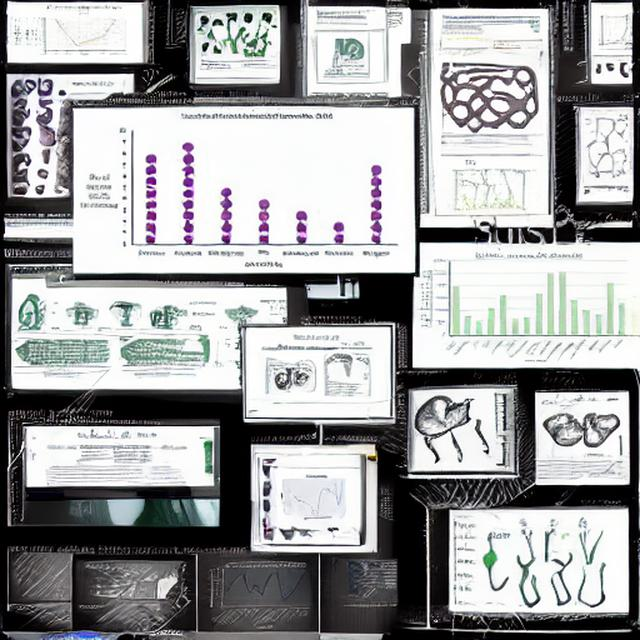Graph: (76, 110, 396, 272), (427, 251, 631, 365), (208, 558, 313, 632), (32, 4, 130, 61), (278, 468, 353, 524), (434, 27, 492, 61), (143, 464, 193, 483)
